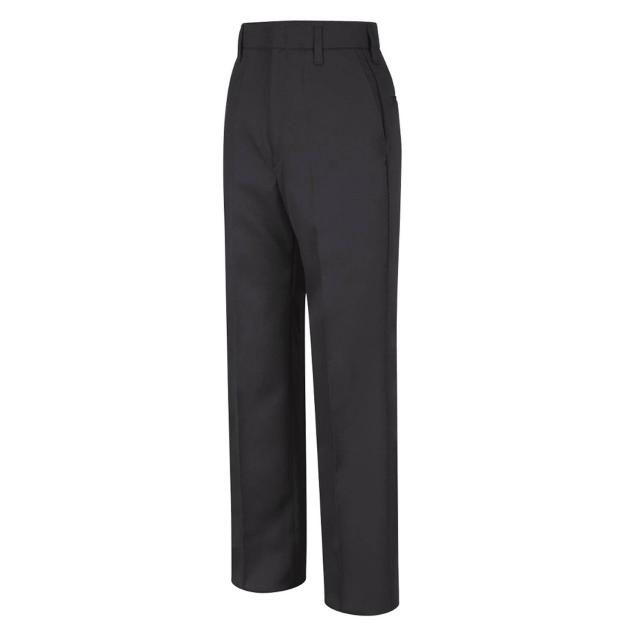long-pants: (222, 20, 403, 617)
